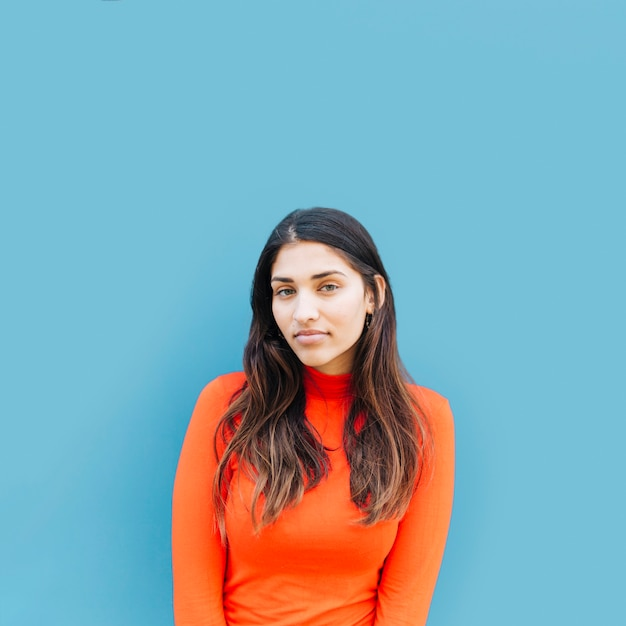young: (239, 195, 425, 387)
